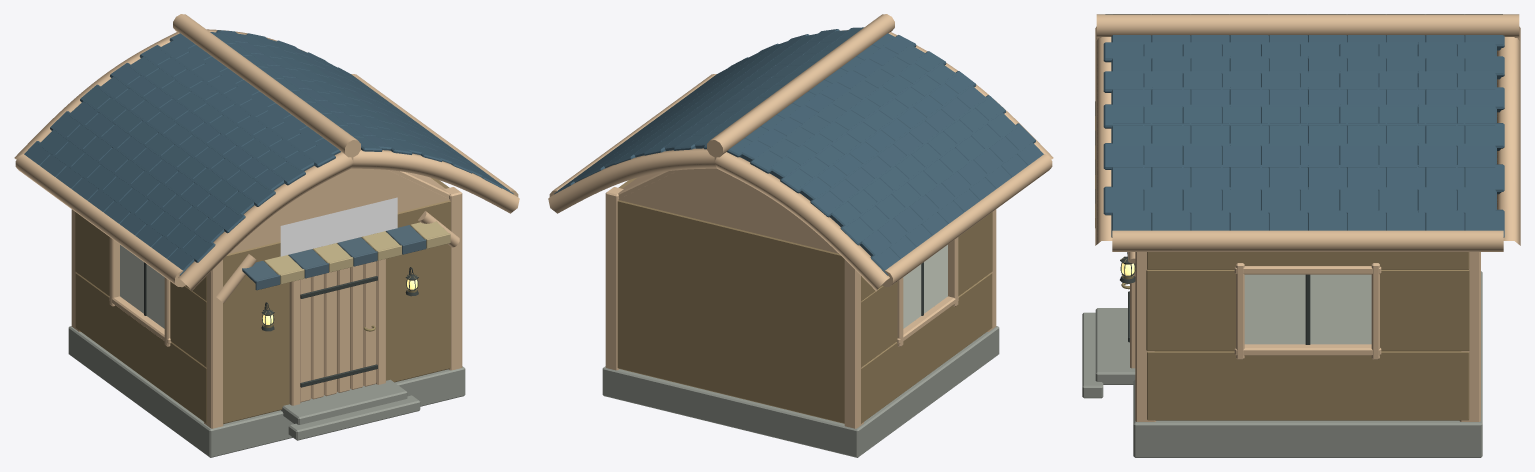
File: highland.glb
3 renders of one model, left to right at view 1: azimuth 30°, elevation 25°; view 2: azimuth 150°, elevation 25°; view 3: azimuth 270°, elevation 25°, orthographic. The views are drawn at different scales.
Parts seen in each view (by area): view 1: 山风杂货铺 · roof, 山风杂货铺 · wood, 山风杂货铺 · leather, 山风杂货铺 · stone, 山风杂货铺 · 活动门 · wood, 山风杂货铺, 山风杂货铺 · cloth, 山风杂货铺 · paper, 山风杂货铺 · windowglass, 山风杂货铺 · 活动门 · iron, 山风杂货铺 · iron; view 2: 山风杂货铺 · leather, 山风杂货铺 · roof, 山风杂货铺 · wood, 山风杂货铺 · stone, 山风杂货铺 · windowglass; view 3: 山风杂货铺 · roof, 山风杂货铺 · leather, 山风杂货铺 · wood, 山风杂货铺 · stone, 山风杂货铺 · windowglass, 山风杂货铺 · iron.
Part boxes in pixels (box(x1,y1,x2,y2)): 山风杂货铺 · roof: box(24, 30, 513, 275); 山风杂货铺 · wood: box(14, 14, 519, 428); 山风杂货铺 · leather: box(75, 178, 450, 423); 山风杂货铺 · stone: box(68, 326, 465, 457); 山风杂货铺 · 活动门 · wood: box(300, 261, 376, 402); 山风杂货铺: box(280, 197, 397, 256); 山风杂货铺 · cloth: box(242, 225, 426, 290); 山风杂货铺 · paper: box(264, 221, 450, 284); 山风杂货铺 · windowglass: box(120, 245, 164, 328); 山风杂货铺 · 活动门 · iron: box(300, 276, 377, 387); 山风杂货铺 · iron: box(144, 262, 418, 331); 山风杂货铺 · leather: box(617, 178, 992, 423); 山风杂货铺 · roof: box(554, 27, 1043, 275); 山风杂货铺 · wood: box(548, 14, 1053, 428); 山风杂货铺 · stone: box(602, 326, 999, 457); 山风杂货铺 · windowglass: box(903, 245, 947, 328); 山风杂货铺 · roof: box(1103, 14, 1504, 237); 山风杂货铺 · leather: box(1146, 252, 1469, 420); 山风杂货铺 · wood: box(1095, 14, 1520, 421); 山风杂货铺 · stone: box(1082, 271, 1482, 457); 山风杂货铺 · windowglass: box(1244, 274, 1371, 344); 山风杂货铺 · iron: box(1120, 252, 1310, 344).
Size of the model in its own units: 6.9 by 5.73 by 6.22.
